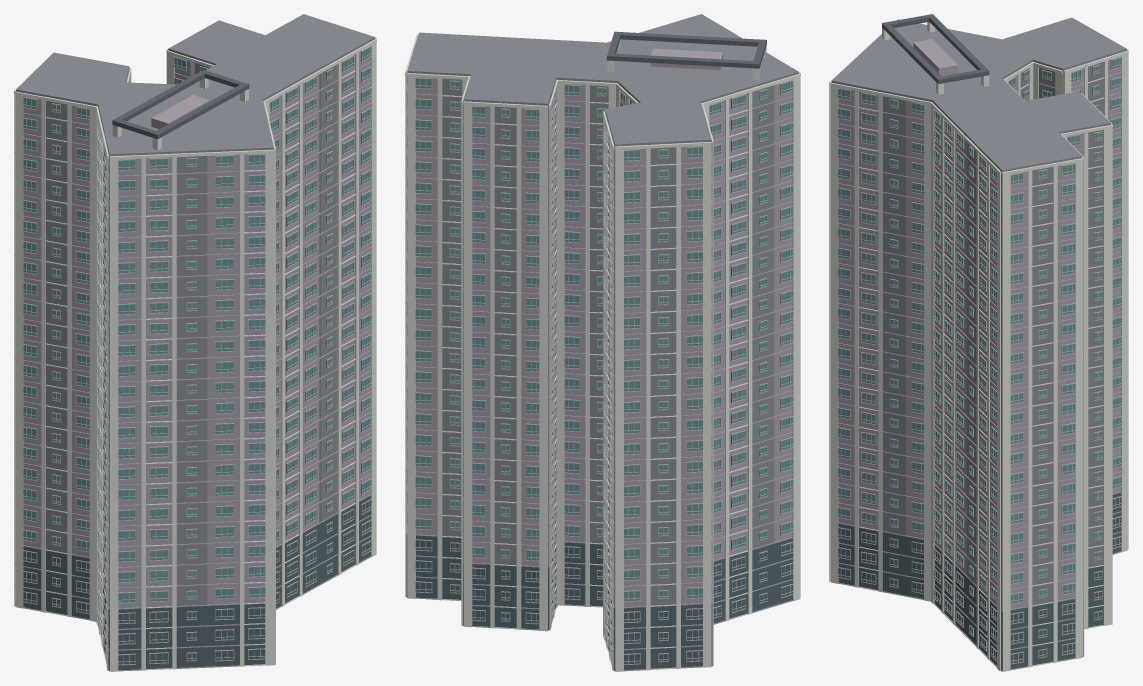
File: bespoke-shinbanpo-xi-107.glb
3 views of the same model, side by side, from view 1: azimuth 30°, elevation 25°; view 2: azimuth 150°, elevation 25°; view 3: azimuth 270°, elevation 25° (orthographic). The views are drawn at different scales.
Visible parts, largest first — view 1: SBX107_editable_SBX107_lavender_grey_metallic_panels, SBX107_editable_SBX107_white_vertical_frame, SBX107_editable_SBX107_grey_inset_service_walls, SBX107_editable_SBX107_pale_teal_glazing, SBX107_editable_SBX107_thin_grey_window_mullions, SBX107_editable_SBX107_dark_glazed_base, SBX107_editable_SBX107_broad_charcoal_roof_caps; view 2: SBX107_editable_SBX107_white_vertical_frame, SBX107_editable_SBX107_grey_inset_service_walls, SBX107_editable_SBX107_lavender_grey_metallic_panels, SBX107_editable_SBX107_pale_teal_glazing, SBX107_editable_SBX107_thin_grey_window_mullions, SBX107_editable_SBX107_dark_glazed_base, SBX107_editable_SBX107_broad_charcoal_roof_caps; view 3: SBX107_editable_SBX107_white_vertical_frame, SBX107_editable_SBX107_grey_inset_service_walls, SBX107_editable_SBX107_lavender_grey_metallic_panels, SBX107_editable_SBX107_thin_grey_window_mullions, SBX107_editable_SBX107_pale_teal_glazing, SBX107_editable_SBX107_dark_glazed_base, SBX107_editable_SBX107_broad_charcoal_roof_caps.
Boxes of the visible parts, left/top/right/bottom form: SBX107_editable_SBX107_lavender_grey_metallic_panels: left=14, top=39, right=374, bottom=671; SBX107_editable_SBX107_white_vertical_frame: left=14, top=38, right=376, bottom=671; SBX107_editable_SBX107_grey_inset_service_walls: left=16, top=14, right=375, bottom=605; SBX107_editable_SBX107_pale_teal_glazing: left=23, top=47, right=371, bottom=602; SBX107_editable_SBX107_thin_grey_window_mullions: left=21, top=46, right=372, bottom=665; SBX107_editable_SBX107_dark_glazed_base: left=23, top=495, right=371, bottom=670; SBX107_editable_SBX107_broad_charcoal_roof_caps: left=112, top=69, right=249, bottom=139; SBX107_editable_SBX107_white_vertical_frame: left=405, top=34, right=800, bottom=671; SBX107_editable_SBX107_grey_inset_service_walls: left=407, top=14, right=798, bottom=605; SBX107_editable_SBX107_lavender_grey_metallic_panels: left=405, top=48, right=798, bottom=671; SBX107_editable_SBX107_pale_teal_glazing: left=407, top=77, right=792, bottom=601; SBX107_editable_SBX107_thin_grey_window_mullions: left=414, top=77, right=794, bottom=665; SBX107_editable_SBX107_dark_glazed_base: left=406, top=533, right=792, bottom=670; SBX107_editable_SBX107_broad_charcoal_roof_caps: left=607, top=31, right=766, bottom=68; SBX107_editable_SBX107_white_vertical_frame: left=829, top=22, right=1128, bottom=671; SBX107_editable_SBX107_grey_inset_service_walls: left=831, top=17, right=1126, bottom=605; SBX107_editable_SBX107_lavender_grey_metallic_panels: left=832, top=39, right=1128, bottom=671; SBX107_editable_SBX107_thin_grey_window_mullions: left=836, top=56, right=1122, bottom=664; SBX107_editable_SBX107_pale_teal_glazing: left=838, top=57, right=1121, bottom=603; SBX107_editable_SBX107_dark_glazed_base: left=838, top=492, right=1121, bottom=671; SBX107_editable_SBX107_broad_charcoal_roof_caps: left=882, top=14, right=989, bottom=83.
Size of the model in its own units: 47.23 by 73.6 by 38.73.
